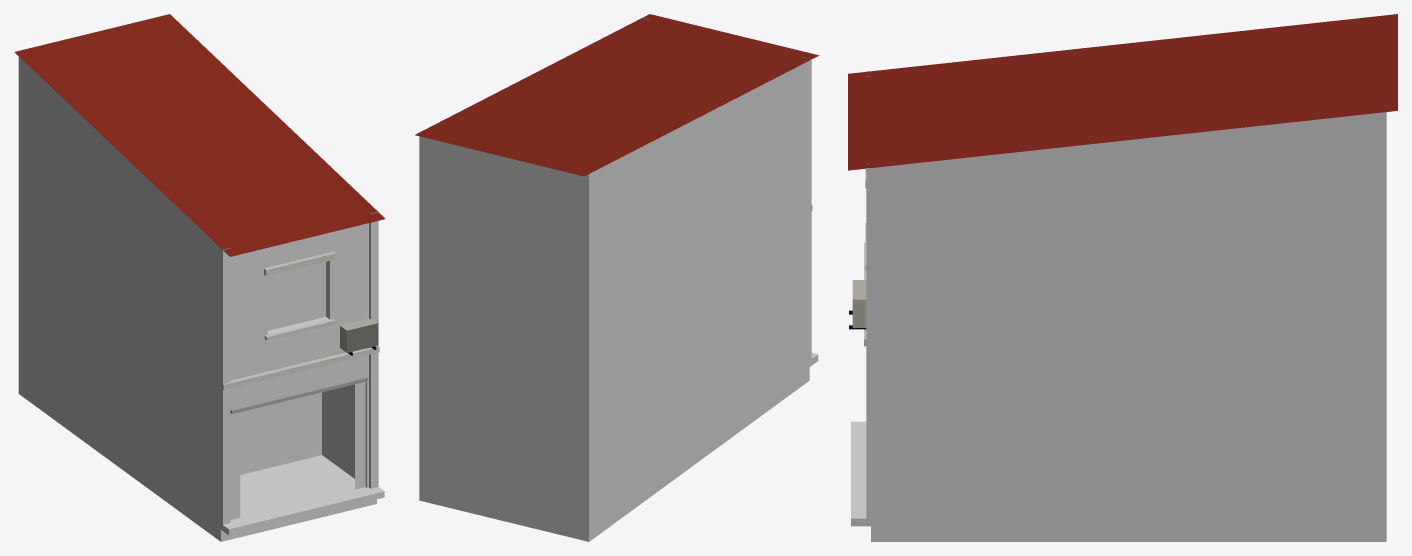
3 views of the same model, side by side, from view 1: azimuth 30°, elevation 25°; view 2: azimuth 150°, elevation 25°; view 3: azimuth 270°, elevation 25° (orthographic). The views are drawn at different scales.
Parts seen in each view (by area): view 1: TH_D09_C_10_LOD0; view 2: TH_D09_C_10_LOD0; view 3: TH_D09_C_10_LOD0.
Boxes of the visible parts, left/top/right/bottom form: TH_D09_C_10_LOD0: left=14, top=14, right=385, bottom=541; TH_D09_C_10_LOD0: left=415, top=14, right=819, bottom=541; TH_D09_C_10_LOD0: left=848, top=14, right=1397, bottom=541.
Size of what is drawn, in the model's own units: 4 by 8.3 by 9.6.
